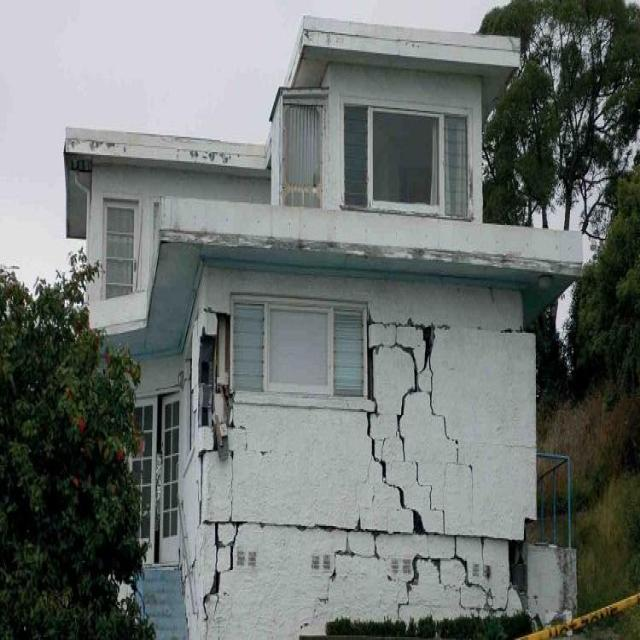damage: (358, 421, 453, 556), (194, 296, 245, 482), (395, 550, 519, 625), (368, 319, 451, 423), (200, 521, 246, 626), (303, 540, 366, 615)
